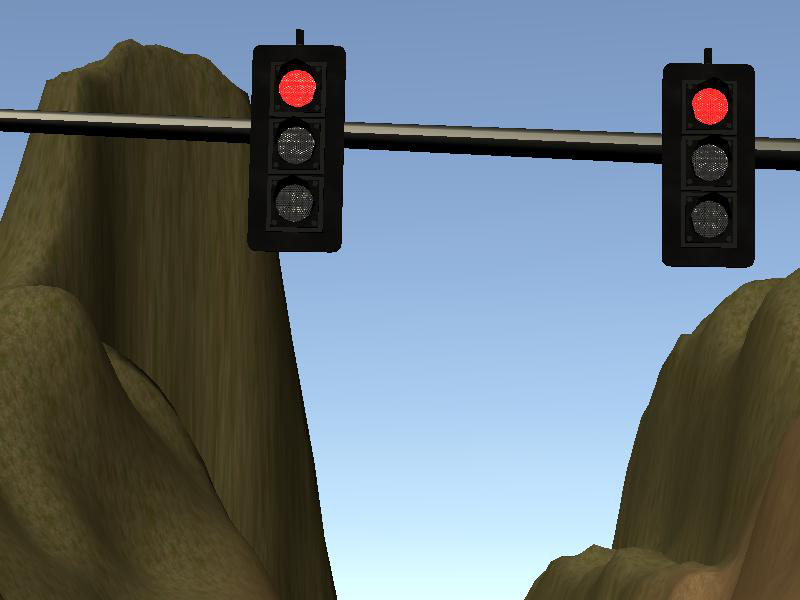red: (252, 43, 343, 253), (661, 66, 755, 268)
